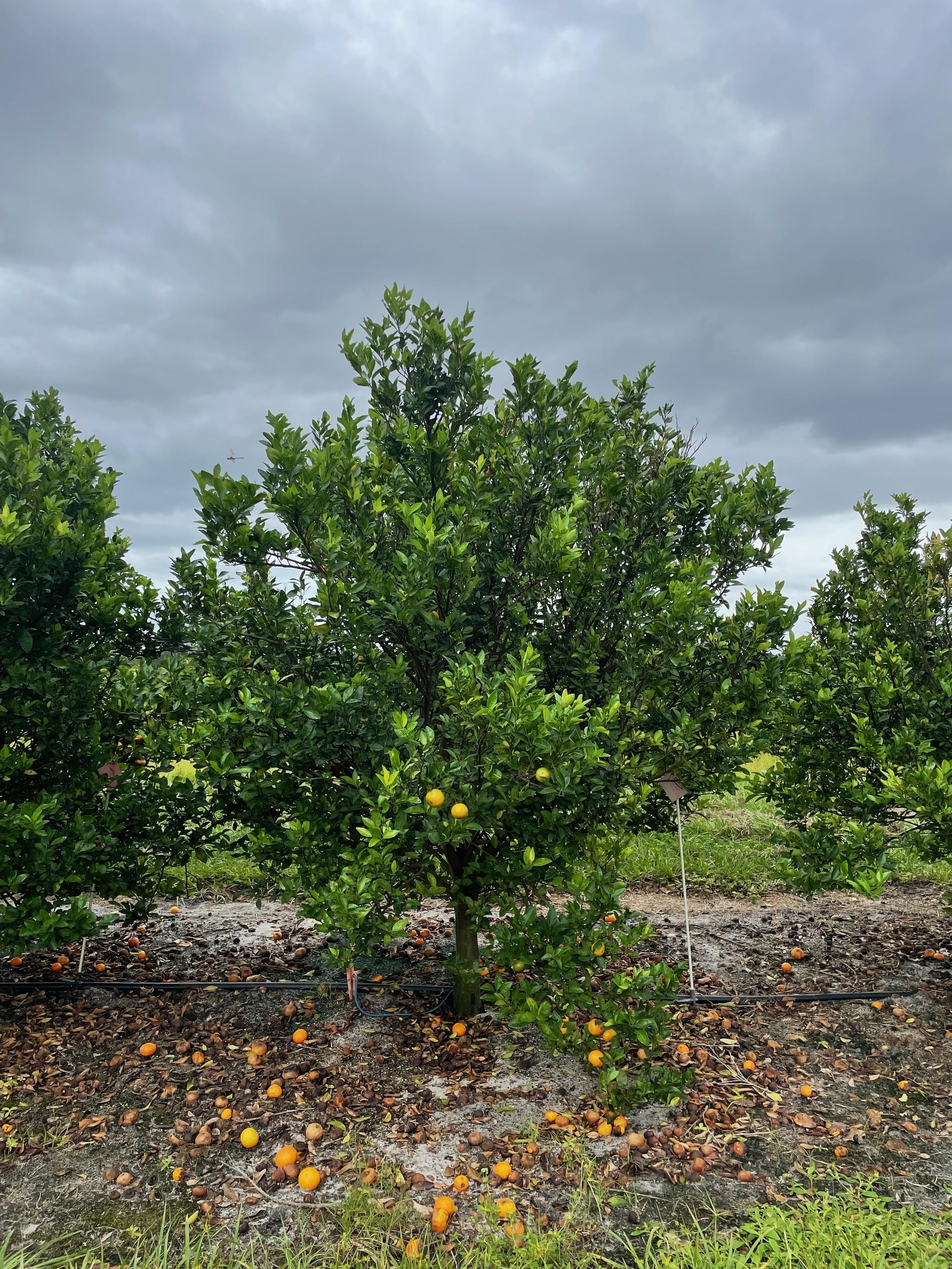fruit_on_ground: (423, 786, 447, 809), (449, 800, 471, 821), (586, 1048, 607, 1068), (534, 764, 554, 785), (586, 1017, 606, 1038), (600, 1026, 619, 1045), (590, 941, 606, 957), (511, 958, 527, 974), (133, 755, 147, 768)
fruit_on_tree: (297, 1165, 321, 1190), (273, 1144, 299, 1167), (403, 1236, 426, 1261), (495, 1196, 518, 1220), (503, 1218, 526, 1240), (429, 1211, 453, 1232), (624, 1129, 647, 1150), (434, 1195, 457, 1216), (249, 1040, 269, 1061), (239, 1127, 259, 1148), (492, 1160, 513, 1179), (193, 1129, 213, 1148), (304, 1121, 324, 1140), (282, 1161, 301, 1181), (359, 1168, 379, 1186), (270, 1166, 288, 1185), (450, 1019, 469, 1037), (452, 1173, 470, 1191), (291, 1026, 309, 1044), (611, 1114, 628, 1133), (518, 1153, 538, 1169), (595, 1119, 613, 1136), (266, 1082, 284, 1099), (139, 1040, 157, 1057), (330, 1090, 347, 1107), (585, 1108, 602, 1125), (697, 1141, 715, 1157), (833, 1143, 851, 1159), (634, 1046, 651, 1062), (282, 1000, 299, 1016), (171, 1165, 187, 1182), (731, 1140, 747, 1157), (189, 1049, 206, 1065), (788, 946, 806, 961), (282, 1065, 301, 1079), (675, 1042, 691, 1058), (191, 1183, 207, 1199), (211, 1098, 228, 1113), (467, 1130, 484, 1145), (174, 1039, 192, 1053), (646, 1133, 662, 1148), (691, 1157, 707, 1172), (524, 1140, 541, 1154), (891, 1004, 906, 1019), (556, 1113, 571, 1128), (542, 1107, 557, 1122), (218, 1106, 234, 1120), (670, 1140, 685, 1154), (719, 1016, 734, 1030), (799, 1084, 814, 1098), (292, 945, 308, 958), (743, 1049, 759, 1062), (742, 1058, 758, 1071), (737, 1169, 753, 1182), (603, 911, 618, 924), (306, 1069, 321, 1082), (672, 1124, 686, 1137), (215, 1095, 229, 1108), (240, 964, 254, 977), (256, 944, 270, 957), (779, 961, 793, 974), (340, 1043, 353, 1056), (270, 929, 284, 941), (226, 970, 240, 982), (9, 954, 23, 966), (369, 972, 384, 983), (922, 947, 937, 958), (871, 999, 884, 1011), (418, 927, 431, 939), (94, 960, 107, 972), (50, 960, 63, 972), (58, 953, 71, 965), (127, 935, 140, 947), (933, 951, 946, 962), (136, 923, 148, 934), (136, 950, 148, 961), (169, 904, 181, 915), (414, 937, 425, 947), (408, 928, 418, 938)
